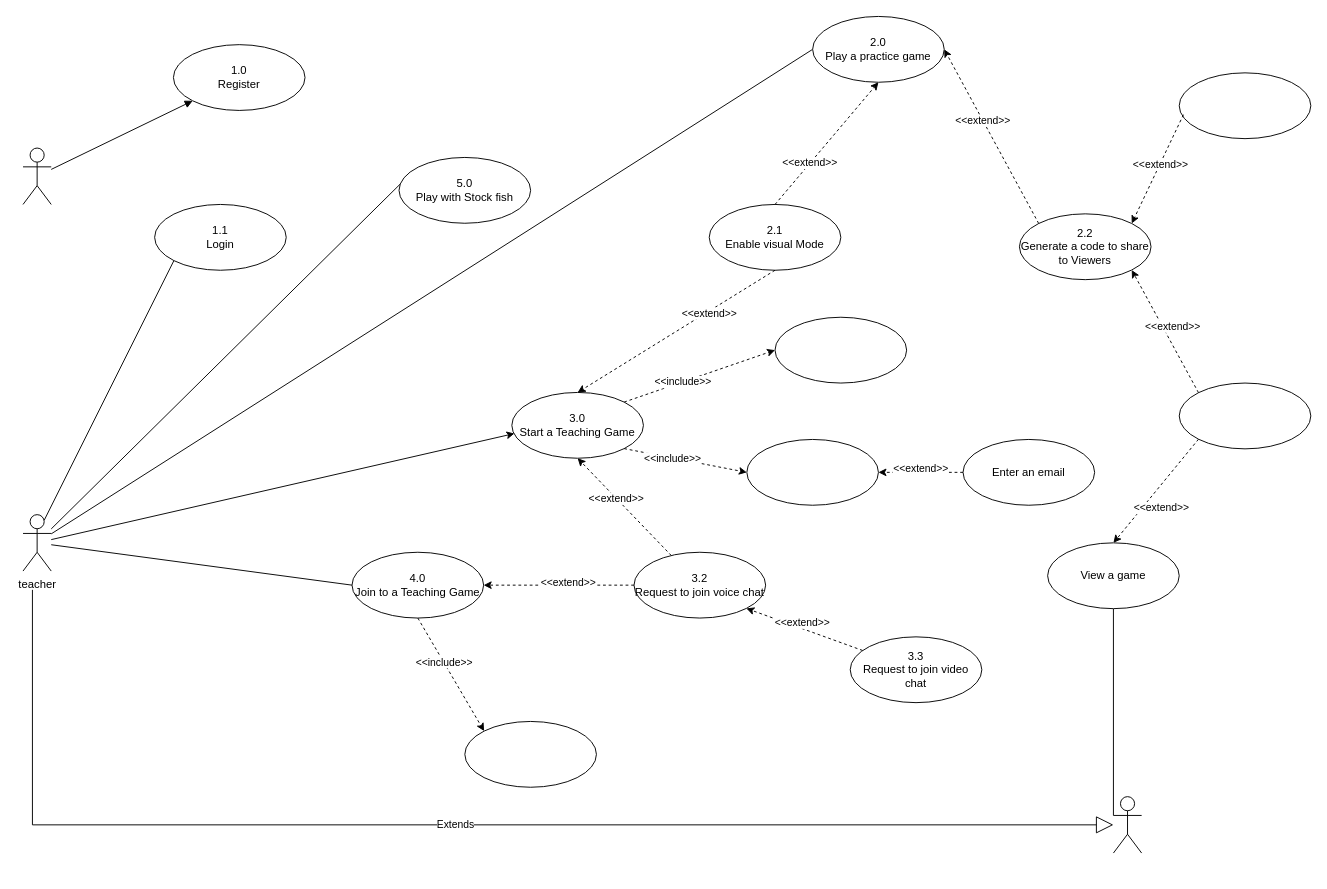
Some shapes in this 1327 by 889 pixel diagram are drawn without their labels. The shapes that lost their labels are listed below. From the top down, each one's centre as x and y in pixels, then its label:
At pixel 1244 105: "2.3 remove a viewer".
At pixel 36 175: "guest".
At pixel 840 349: "Accept / reject joining request".
At pixel 1244 415: "2.4 view/participate in chat".
At pixel 812 472: "3.1 Generate a code to share with a student".
At pixel 530 754: "4.1 Enter the game code to play".
At pixel 1127 824: "viewer".
